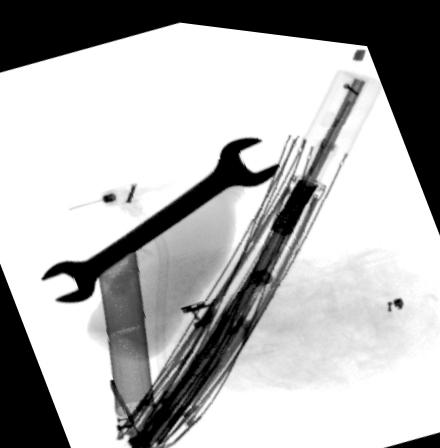Wrench: (38, 130, 279, 303)
